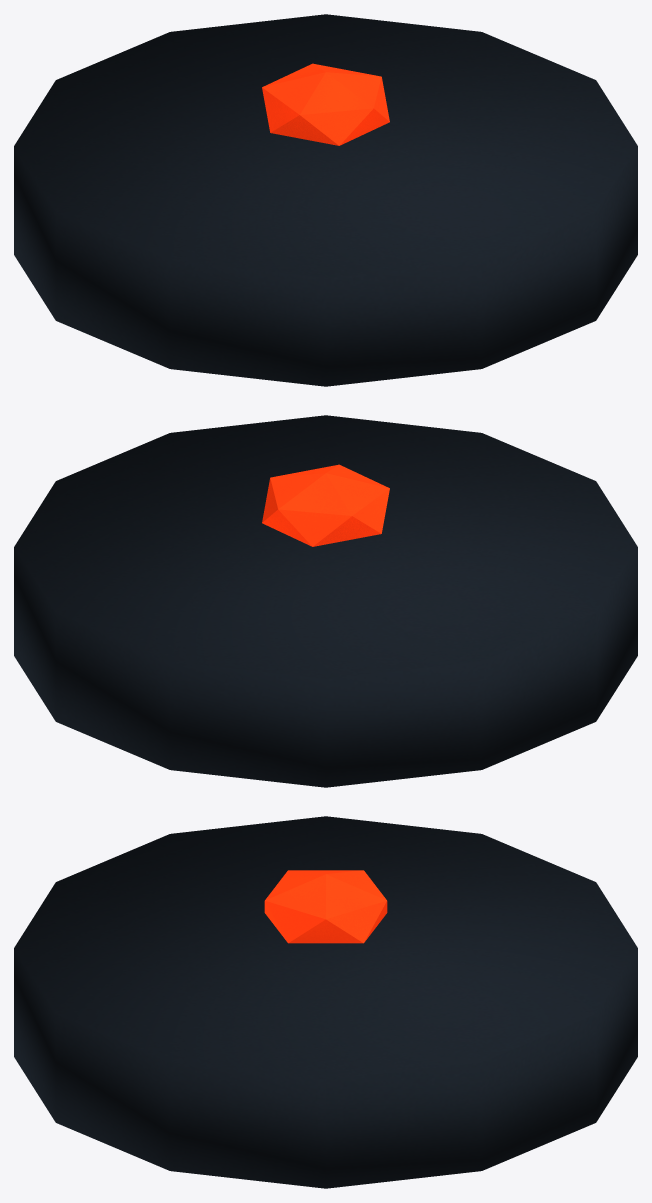
The model's file is Kit_Mine.fbx.
The picture shows the model from 3 angles, top to bottom: view 1: azimuth 30°, elevation 25°; view 2: azimuth 150°, elevation 25°; view 3: azimuth 270°, elevation 25°; orthographic projection.
Visible parts, largest first — view 1: Kit_Mine_DarkSteel, Kit_Mine_Ember; view 2: Kit_Mine_DarkSteel, Kit_Mine_Ember; view 3: Kit_Mine_DarkSteel, Kit_Mine_Ember.
Boxes of the visible parts, <box> form: Kit_Mine_DarkSteel: <box>14,14,637,386</box>; Kit_Mine_Ember: <box>262,63,389,145</box>; Kit_Mine_DarkSteel: <box>14,415,637,787</box>; Kit_Mine_Ember: <box>262,464,389,546</box>; Kit_Mine_DarkSteel: <box>14,816,637,1188</box>; Kit_Mine_Ember: <box>264,870,387,943</box>.
Bounding box in the file's own units: 0.26 × 0.084 × 0.26.
